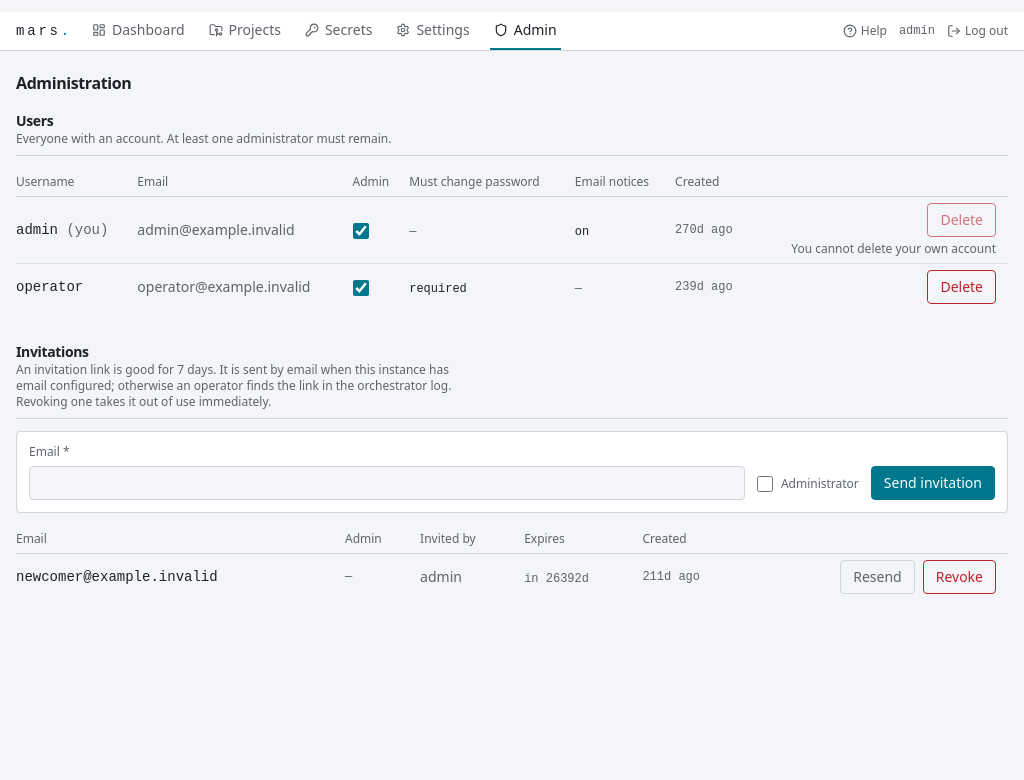
Test: AdminPage › normalises the invited address and says where the link is
The image size is (1024, 780).
Type "  Newbie@Example.Invalid  " into the field labelled "Email *". click: (387, 483)
box: x1=29 y1=466 x2=745 y2=500
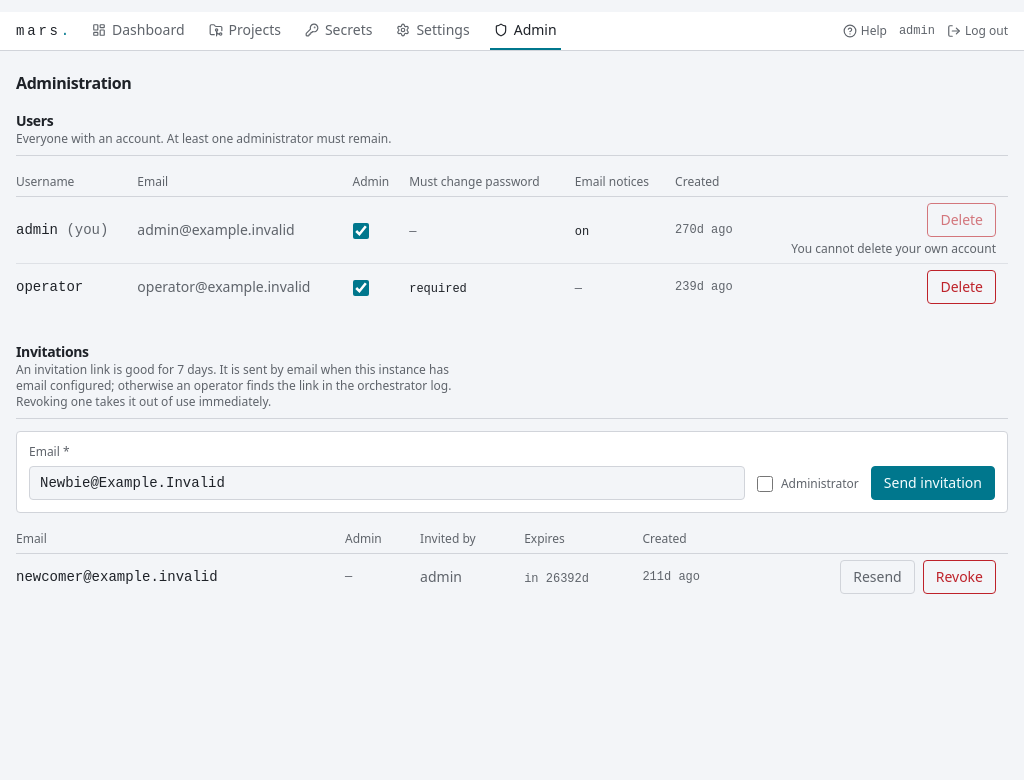
Click the checkbox labelled "Administrator". click: (765, 484)
box: x1=757 y1=476 x2=773 y2=492
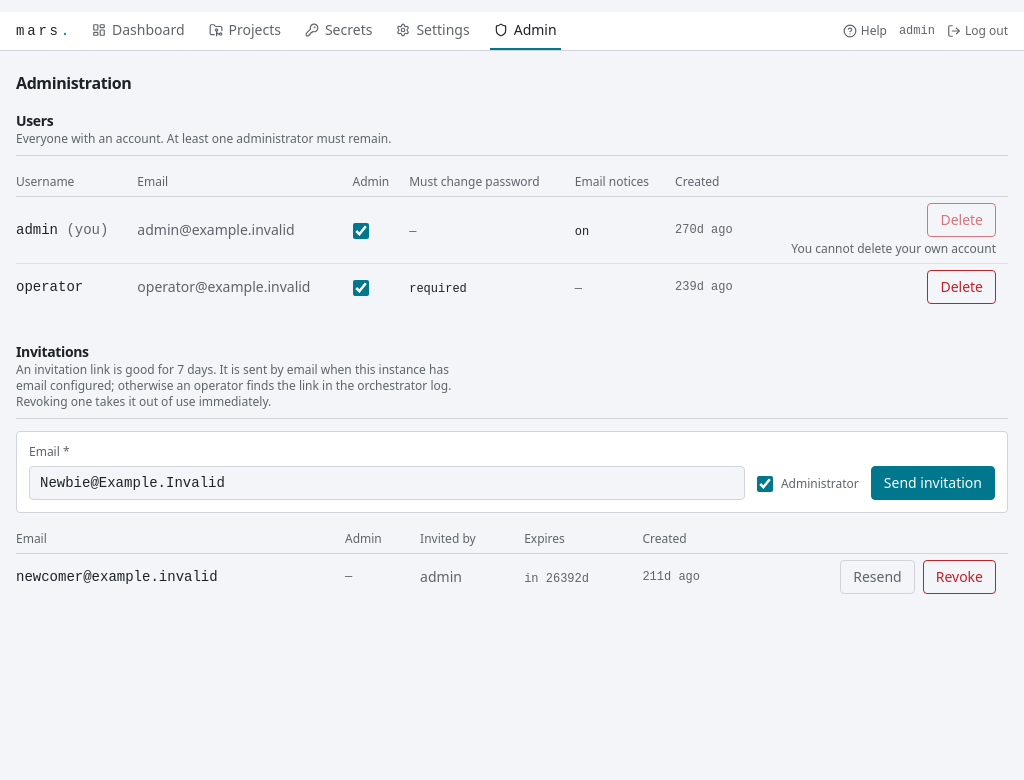
Click the button "Send invitation". click: (933, 483)
box: x1=871 y1=466 x2=995 y2=500
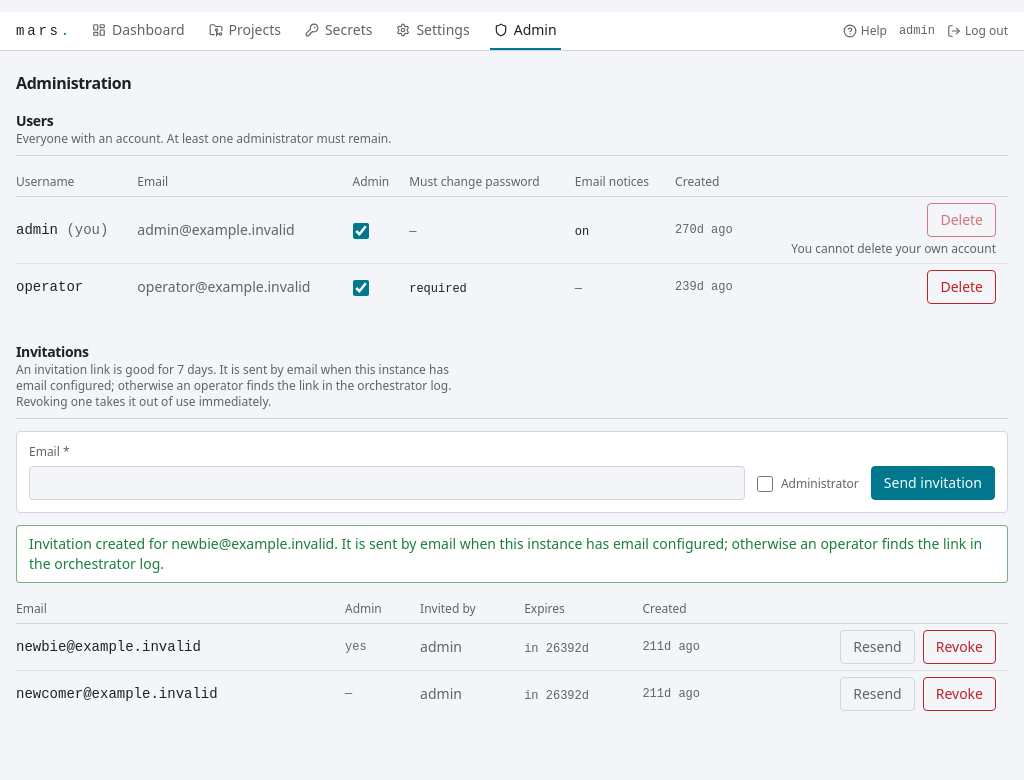
Now the field labelled "Email *" is empty, box x1=29 y1=466 x2=745 y2=500
Now the text "newbie@example.invalid" is shown, box x1=16 y1=624 x2=345 y2=670
